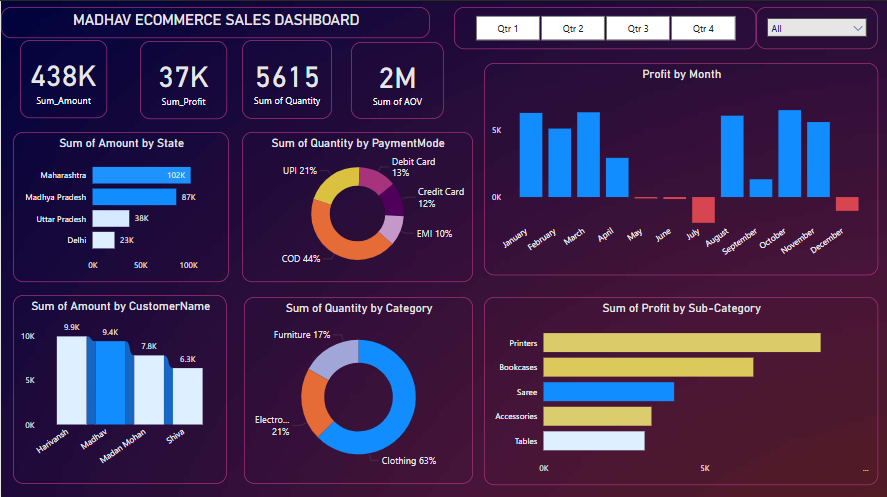

This screenshot's page, from the dashboard's own definition file:
{"tool":"powerbi","page":{"name":"Page 1","canvas":[1280,720],"ordinal":0},"visuals":[{"type":"textbox","title":"MADHAV ECOMMERCE SALES DASHBOARD","box":[0,8.4,619.8,45.4],"z":0},{"type":"card","fields":{"Values":["Details madhav.Sum_Profit"]},"box":[201,57.8,125.8,112.8],"z":1000},{"type":"card","fields":{"Values":["Details madhav.Sum_Amount"]},"box":[27.5,56.4,125.8,112.8],"z":2000},{"type":"columnChart","title":"Profit by Month","fields":{"Y":["Details madhav.Profit"],"Category":["Orders madhav 2.Order Date.Variation.Date Hierarchy.Month"]},"box":[698.3,89.6,569.6,306.5],"z":3000},{"type":"barChart","fields":{"Category":["Details madhav.Sub-Category"],"Y":["Details madhav.Profit"]},"box":[698.3,428,569.6,271.8],"z":4000},{"type":"donutChart","fields":{"Category":["Details madhav.Category"],"Y":["Details madhav.Quantity"]},"box":[351.3,428,331.1,270.4],"z":5000},{"type":"donutChart","fields":{"Category":["Details madhav.PaymentMode"],"Y":["Details madhav.Quantity"]},"box":[348.4,189.4,334,216.9],"z":6000},{"type":"card","fields":{"Values":["Details madhav.Quantity"]},"box":[348.4,56.4,130.1,114.2],"z":7000},{"type":"card","fields":{"Values":["Details madhav.AOV"]},"box":[506,59.3,134.5,111.3],"z":8000},{"type":"barChart","fields":{"Category":["Orders madhav 2.State"],"Y":["Details madhav.Amount"]},"box":[17.3,189.4,312.3,216.9],"z":9000},{"type":"columnChart","fields":{"Category":["Orders madhav 2.CustomerName"],"Y":["Details madhav.Amount"]},"box":[17.3,425.1,309.4,273.3],"z":10000},{"type":"slicer","fields":{"Values":["Orders madhav 2.Order Date.Variation.Date Hierarchy.Quarter"]},"box":[654.9,8.7,436.6,60.7],"z":11000},{"type":"slicer","fields":{"Values":["Orders madhav 2.State"]},"box":[1091.6,8.7,176.4,60.7],"z":11001}]}

Visuals, with their boxes in screenshot pixels (x1, y1, x2, y2), scaled from the page's 1280x720 canvas onto the 887x497 screenshot:
"MADHAV ECOMMERCE SALES DASHBOARD" textbox: {"left": 0, "top": 6, "right": 430, "bottom": 37}
card - Details madhav.Sum_Profit: {"left": 139, "top": 40, "right": 226, "bottom": 118}
card - Details madhav.Sum_Amount: {"left": 19, "top": 39, "right": 106, "bottom": 117}
"Profit by Month" columnChart: {"left": 484, "top": 62, "right": 879, "bottom": 273}
barChart - Details madhav.Sub-Category x Details madhav.Profit: {"left": 484, "top": 295, "right": 879, "bottom": 483}
donutChart - Details madhav.Category x Details madhav.Quantity: {"left": 243, "top": 295, "right": 473, "bottom": 482}
donutChart - Details madhav.PaymentMode x Details madhav.Quantity: {"left": 241, "top": 131, "right": 473, "bottom": 280}
card - Details madhav.Quantity: {"left": 241, "top": 39, "right": 332, "bottom": 118}
card - Details madhav.AOV: {"left": 351, "top": 41, "right": 444, "bottom": 118}
barChart - Orders madhav 2.State x Details madhav.Amount: {"left": 12, "top": 131, "right": 228, "bottom": 280}
columnChart - Orders madhav 2.CustomerName x Details madhav.Amount: {"left": 12, "top": 293, "right": 226, "bottom": 482}
slicer - Orders madhav 2.Order Date.Variation.Date Hierarchy.Quarter: {"left": 454, "top": 6, "right": 756, "bottom": 48}
slicer - Orders madhav 2.State: {"left": 756, "top": 6, "right": 879, "bottom": 48}
